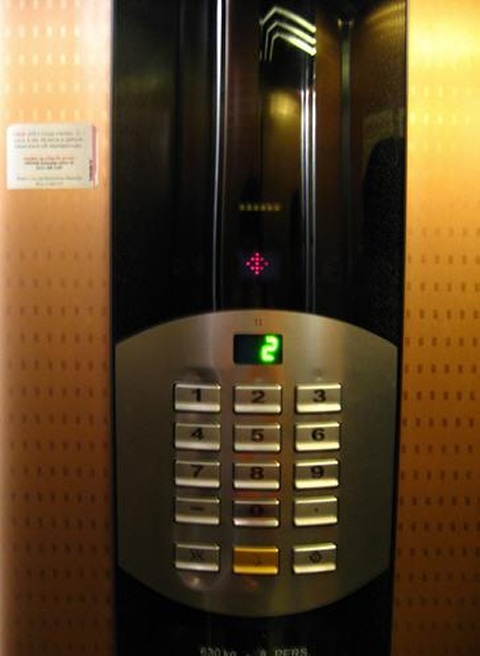-: (172, 495, 222, 527)
.: (292, 494, 339, 527)
0: (231, 497, 281, 529)
1: (171, 379, 222, 415)
2: (232, 381, 283, 415)
3: (293, 381, 344, 414)
4: (170, 419, 222, 452)
5: (231, 420, 282, 454)
6: (292, 419, 343, 453)
7: (173, 457, 222, 490)
8: (230, 458, 282, 491)
9: (293, 458, 340, 490)
alarm: (231, 544, 281, 577)
close: (174, 538, 222, 575)
led: (234, 334, 283, 365)
open: (290, 542, 339, 575)
